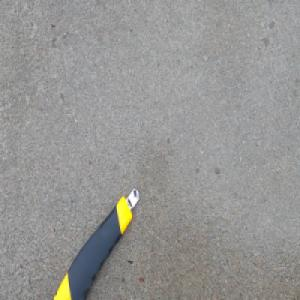Cutter: (50, 183, 141, 299)
